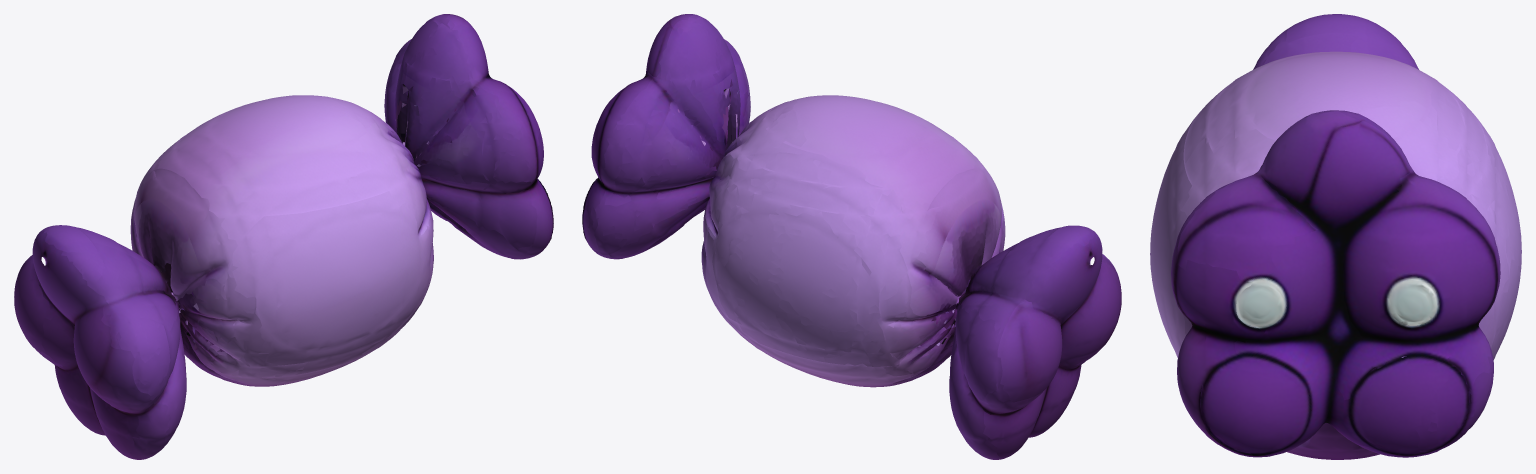
Rendered from candy_2.glb.
3 views of the same model, side by side, from view 1: azimuth 30°, elevation 25°; view 2: azimuth 150°, elevation 25°; view 3: azimuth 270°, elevation 25° (orthographic). The views are drawn at different scales.
Visible parts, largest first — view 1: tmpexkgyfz0.ply; view 2: tmpexkgyfz0.ply; view 3: tmpexkgyfz0.ply.
Boxes of the visible parts, <box> form: tmpexkgyfz0.ply: <box>14,14,553,459</box>; tmpexkgyfz0.ply: <box>582,14,1121,459</box>; tmpexkgyfz0.ply: <box>1150,14,1521,459</box>.
Size of the model in its own units: 0.736 by 0.5129 by 0.3607.
Materials: 1 (1 with a texture image).
